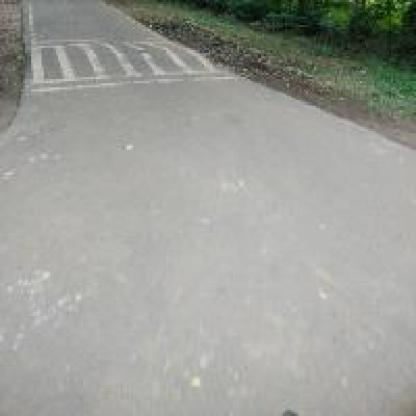Speed Bump: (27, 36, 237, 94)
